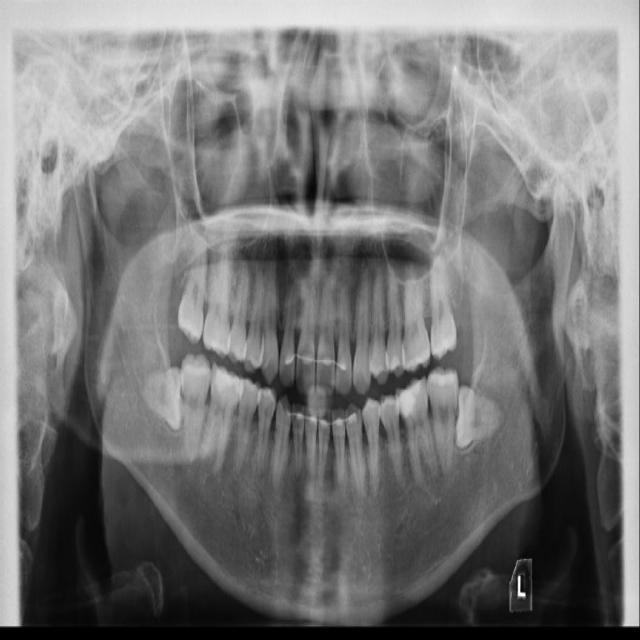52: (196, 360, 250, 410), (396, 374, 429, 421)
73: (580, 567, 596, 582)
BioHorizons Implant: (430, 253, 457, 357)
Biomet 3i Implant: (455, 386, 503, 452)
Blue Sky Bio Implant: (426, 364, 468, 478)
Caries: (176, 238, 210, 344)
Implant: (178, 352, 217, 465)
Keystone Dental Implant: (140, 364, 182, 430)
